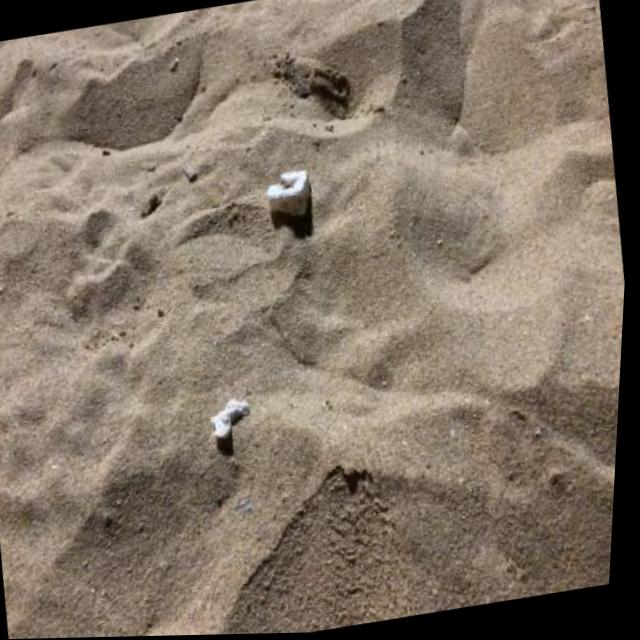foam: (263, 166, 315, 220), (208, 396, 254, 442)
